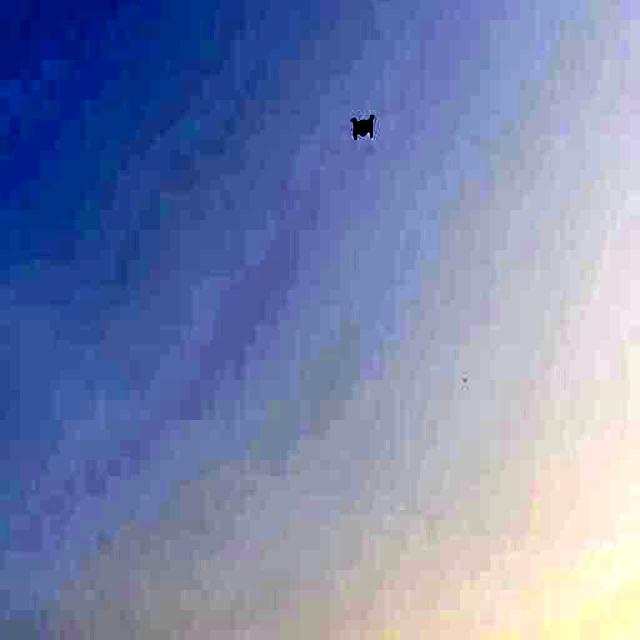bird: (344, 101, 380, 146)
